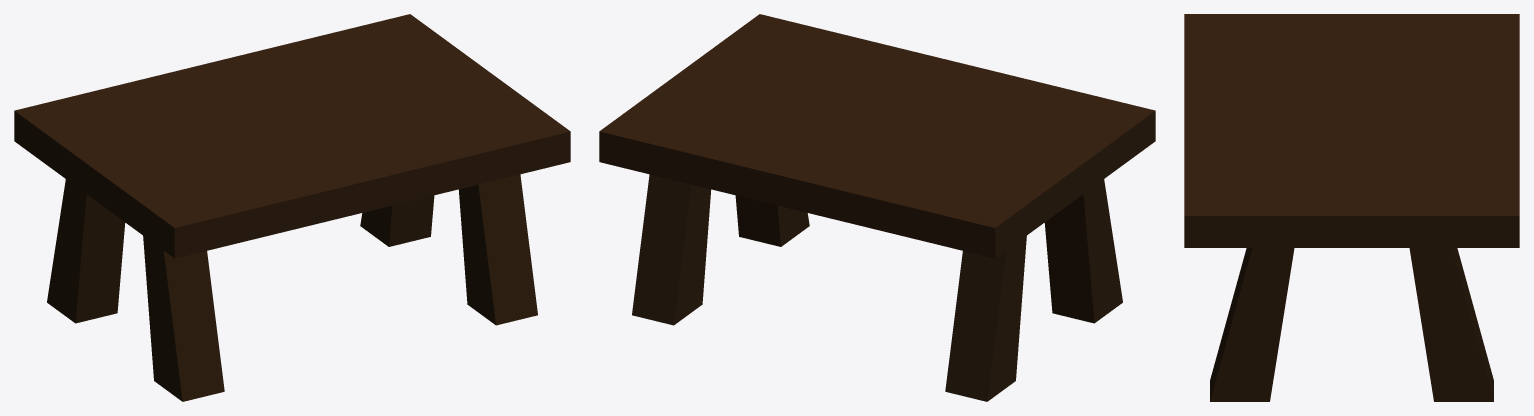
Rendered from table_type_01.fbx.
The picture shows the model from 3 angles, left to right: view 1: azimuth 30°, elevation 25°; view 2: azimuth 150°, elevation 25°; view 3: azimuth 270°, elevation 25°; orthographic projection. The views are drawn at different scales.
Visible parts, largest first — view 1: table_type_01; view 2: table_type_01; view 3: table_type_01.
Boxes of the visible parts, <box> form: table_type_01: <box>14,14,570,401</box>; table_type_01: <box>599,14,1155,401</box>; table_type_01: <box>1184,14,1519,401</box>.
Size of the model in its own units: 113 by 51.41 by 79.61.
